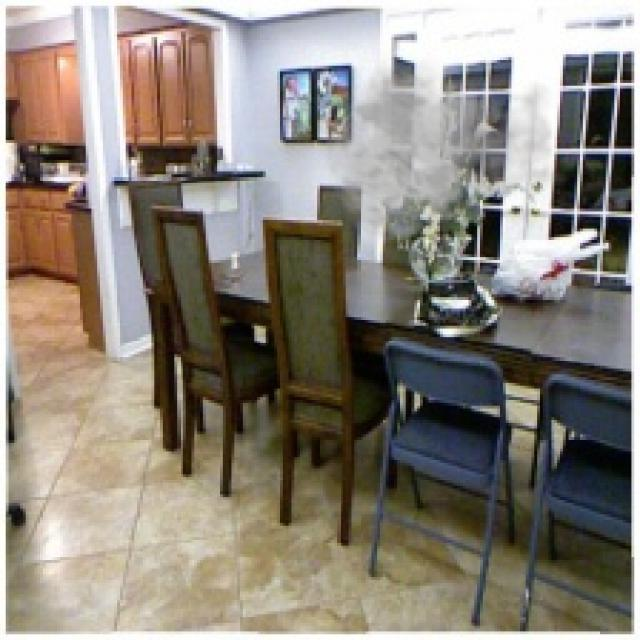Smoke: (323, 48, 571, 248)
